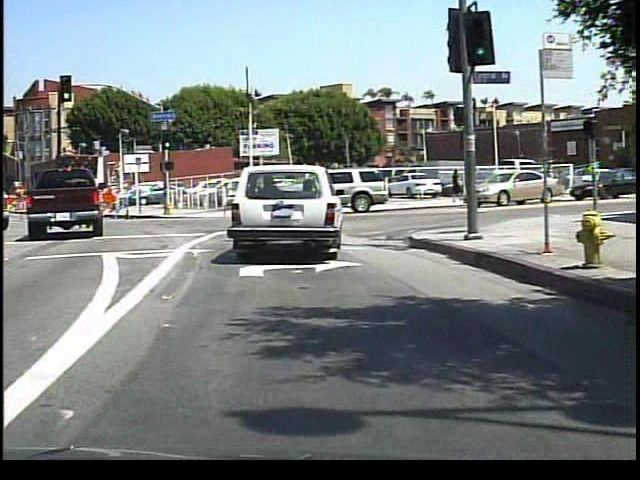person: (445, 161, 465, 205)
